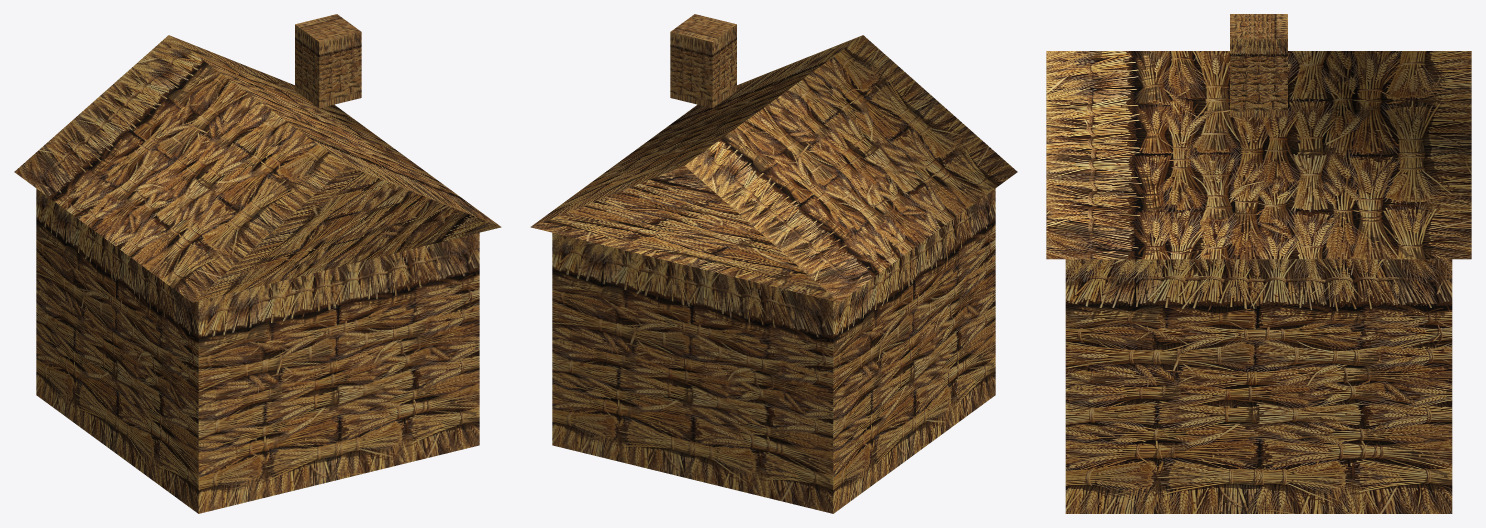
The model's file is bakery.obj.
3 views of the same model, side by side, from view 1: azimuth 30°, elevation 25°; view 2: azimuth 150°, elevation 25°; view 3: azimuth 270°, elevation 25° (orthographic). The views are drawn at different scales.
Visible parts, largest first — view 1: building; view 2: building; view 3: building.
Boxes of the visible parts, bbox=[...] form: building: bbox=[14, 14, 501, 513]; building: bbox=[530, 14, 1017, 513]; building: bbox=[1046, 14, 1471, 513].
Size of the model in its own units: 2.2 by 2.55 by 2.2.
